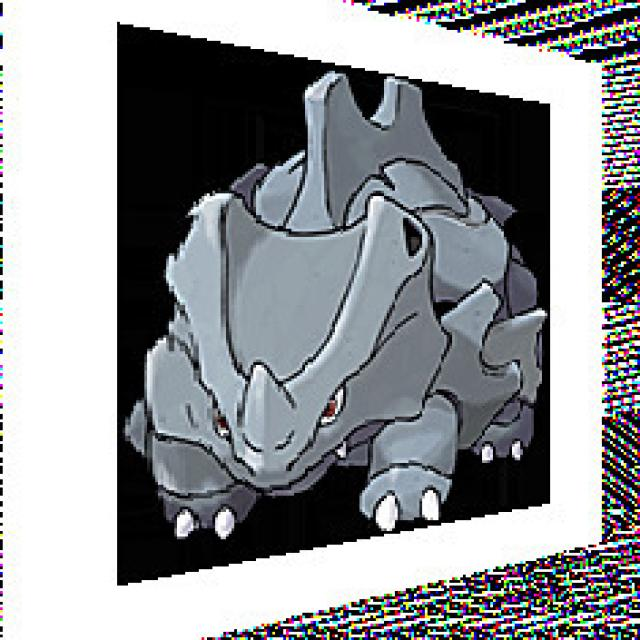Rhyhorn: (150, 110, 544, 522)
